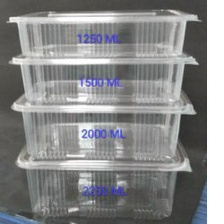plastic_box: (11, 135, 196, 223), (6, 85, 202, 166), (3, 48, 203, 109), (1, 2, 205, 61)
